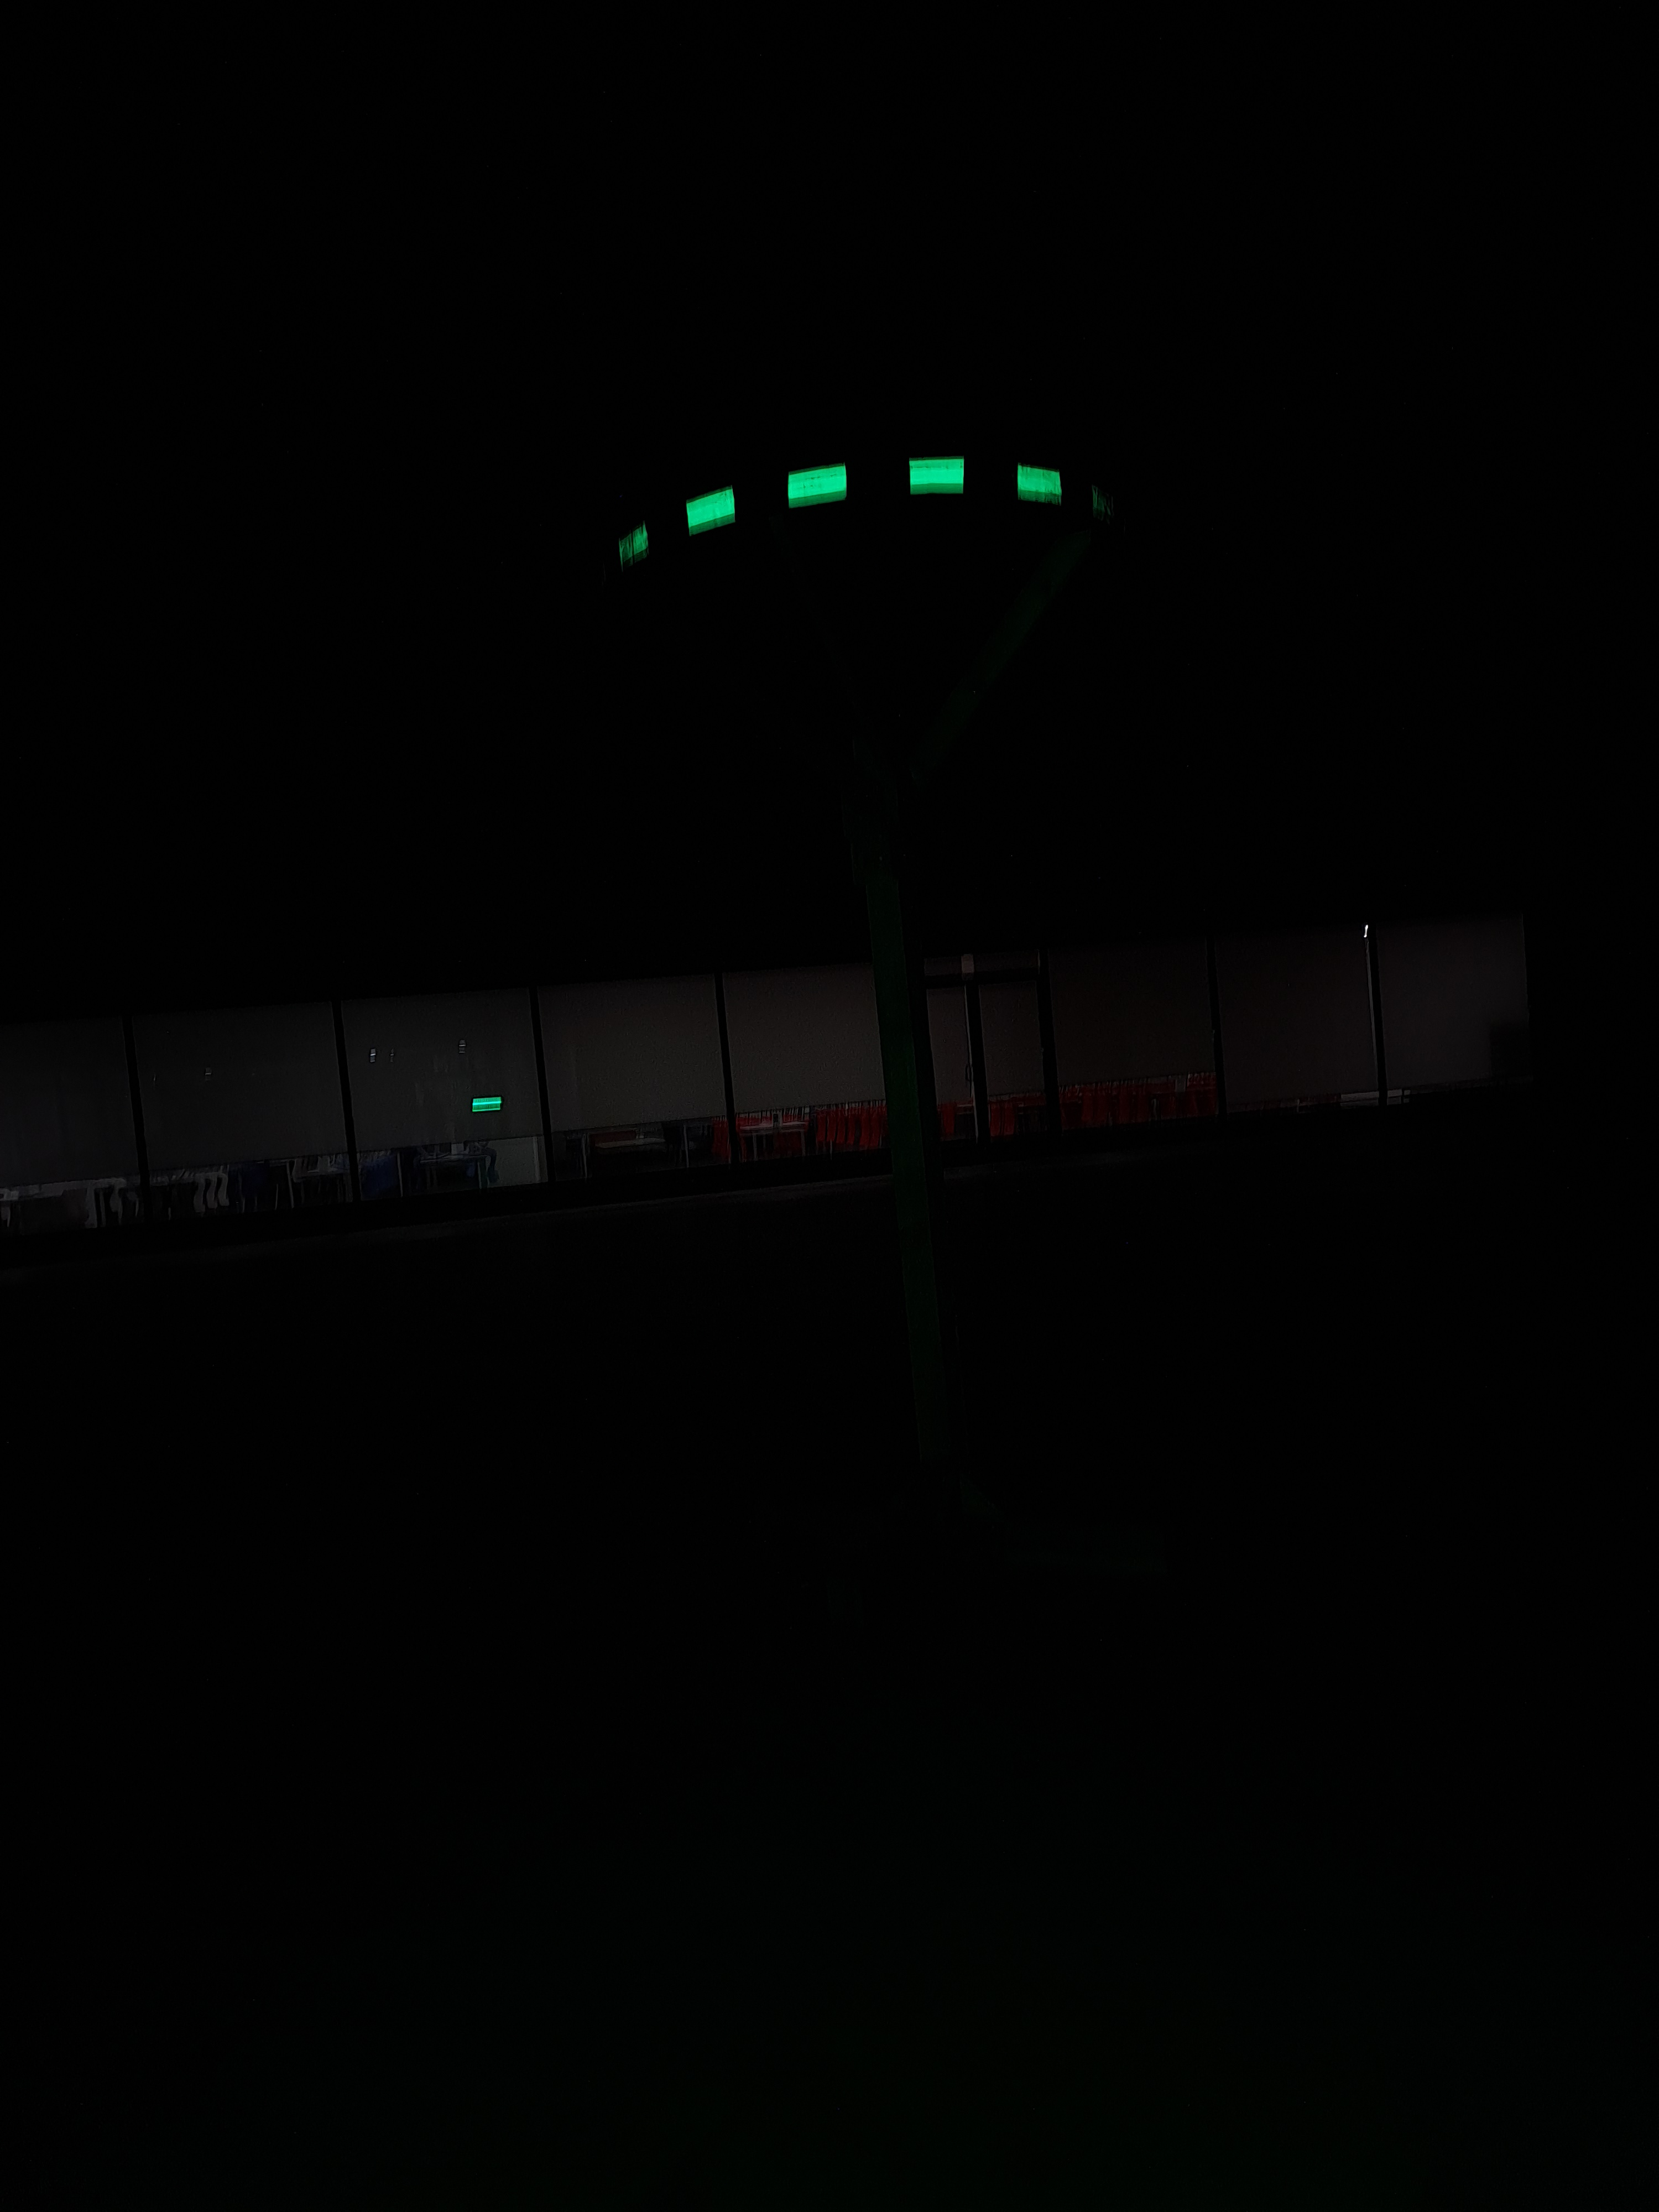hoop: (610, 456, 1089, 564)
